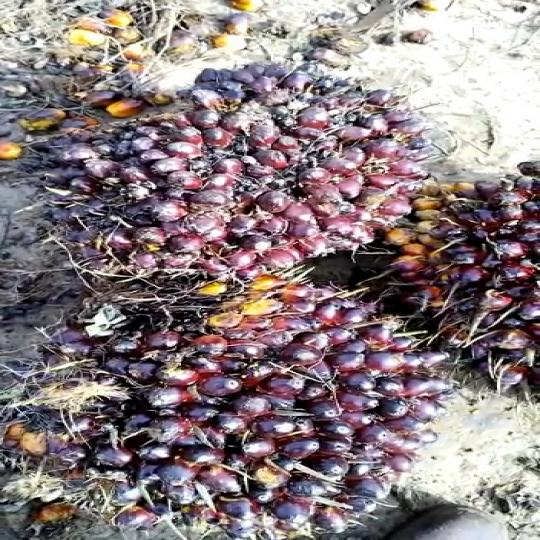kurang masak: (19, 65, 422, 328), (38, 282, 438, 540), (389, 145, 540, 397)
